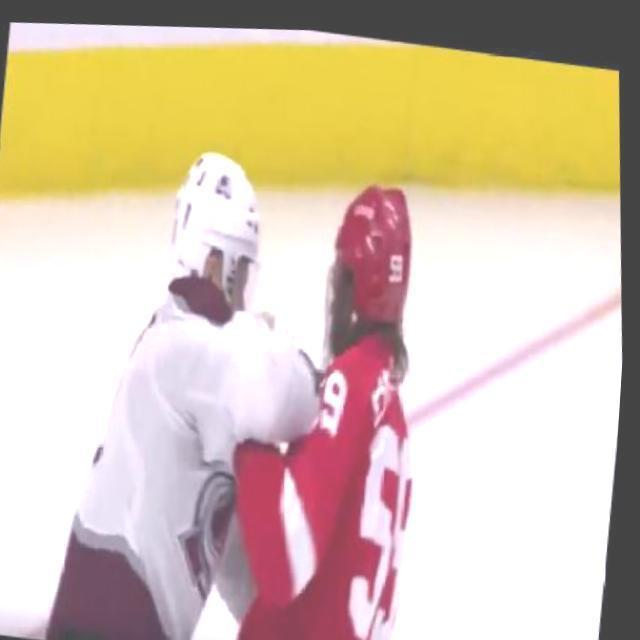fight: (18, 102, 484, 640)
